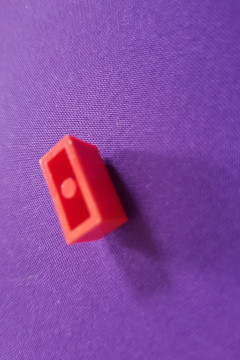1x2 red: (38, 135, 129, 244)
